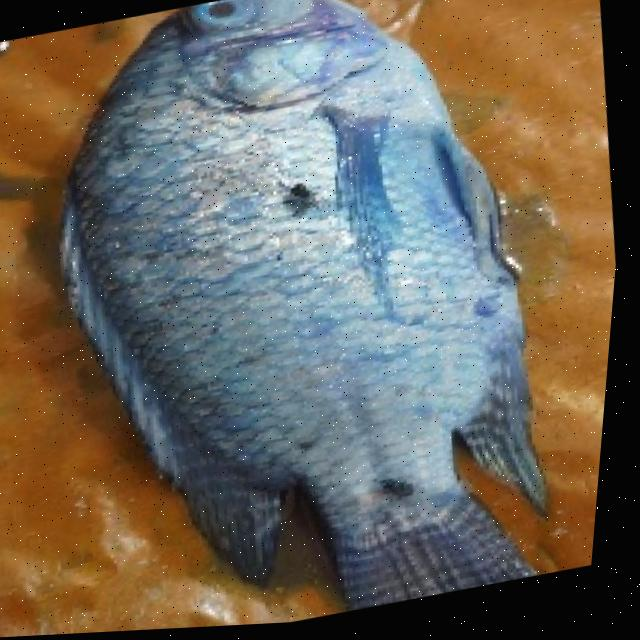Non-Fresh: (50, 0, 588, 575)
